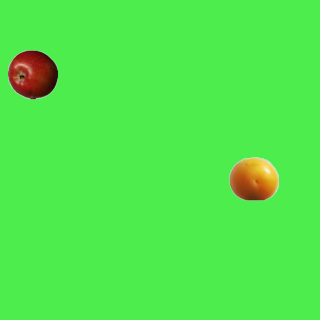Apple Braeburn: (7, 49, 57, 99)
Cherry Wax Yellow: (228, 153, 278, 203)
